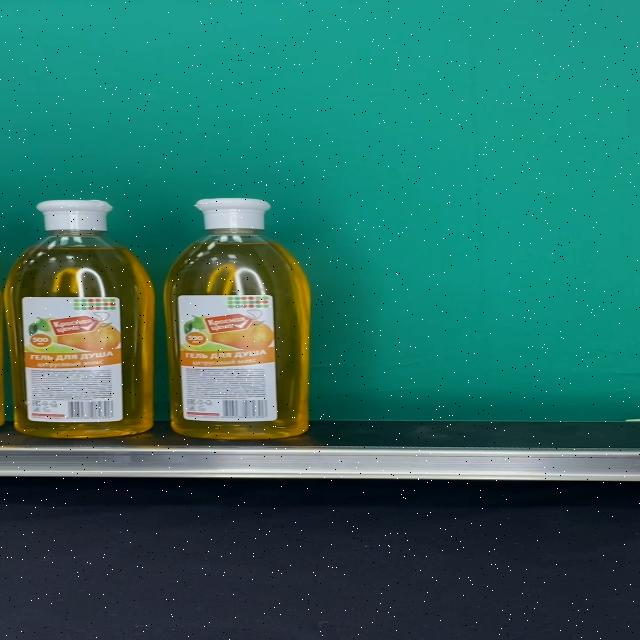Bottle: (4, 200, 155, 438), (164, 198, 310, 438)
Cap: (37, 200, 115, 232), (194, 198, 271, 230)
